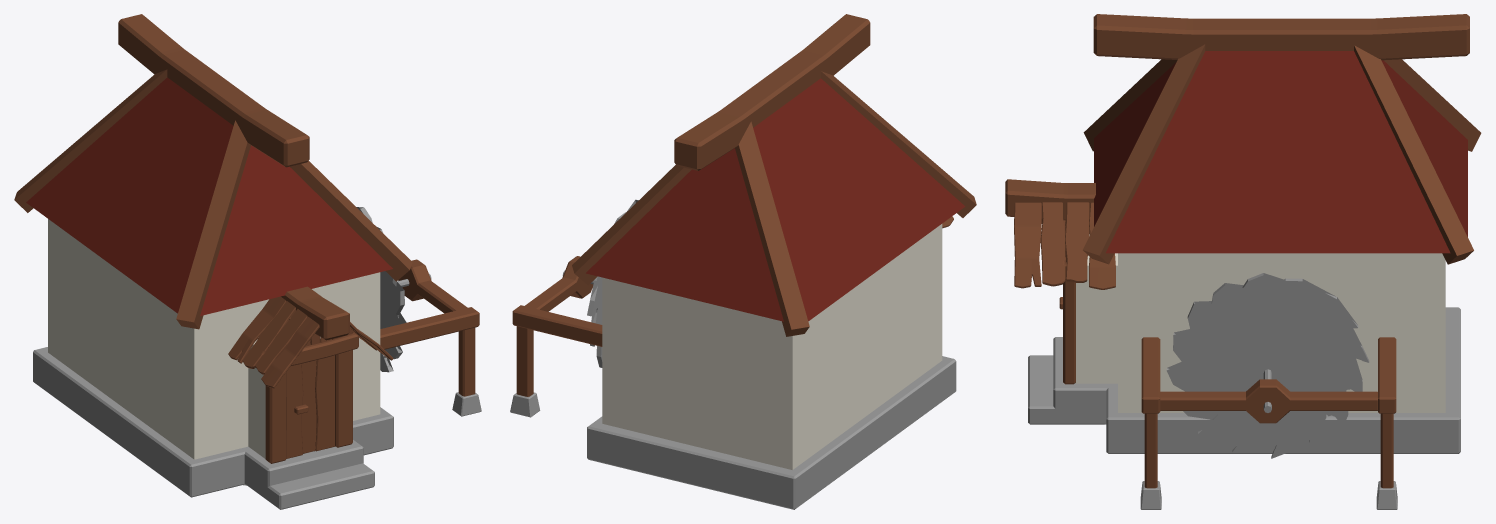
The model's file is Sawmill.fbx.
The picture shows the model from 3 angles, left to right: view 1: azimuth 30°, elevation 25°; view 2: azimuth 150°, elevation 25°; view 3: azimuth 270°, elevation 25°; orthographic projection. The views are drawn at different scales.
Parts seen in each view (by area): view 1: Wood; view 2: Wood; view 3: Wood.
Boxes of the visible parts, x1,y1,x2,y2 form: Wood: [14, 14, 481, 509]; Wood: [510, 14, 976, 509]; Wood: [1005, 14, 1481, 509].
Bounding box in the file's own units: 706 × 697 × 793.
